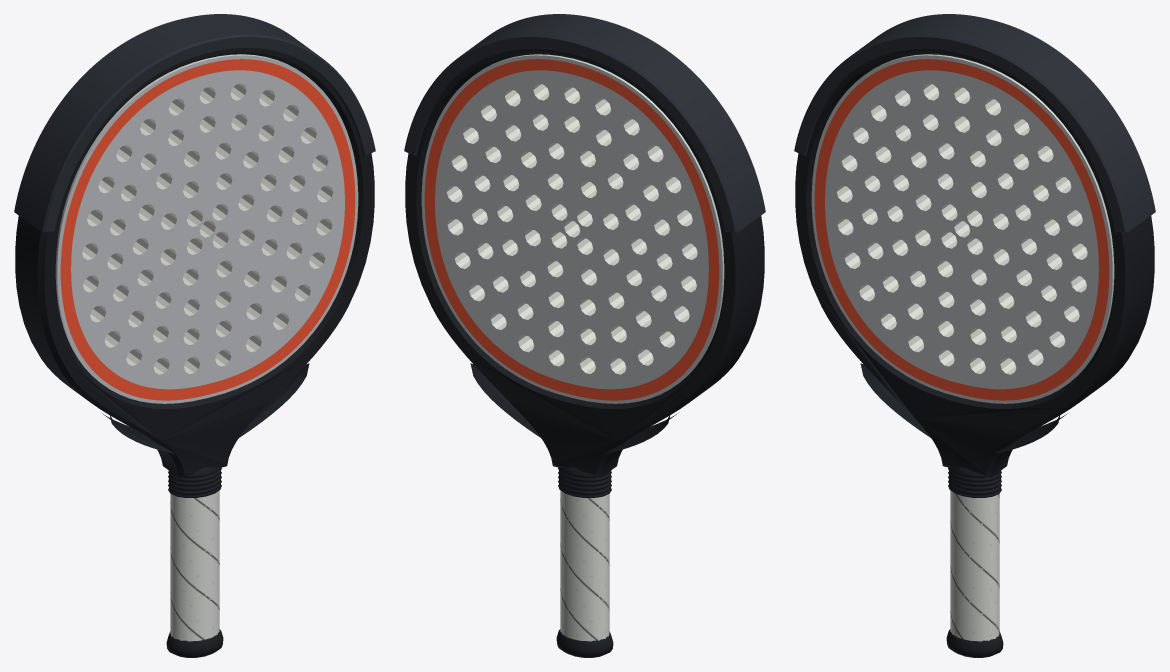
Rendered from nox-ml10-pro-cup-rough-surface.preview.glb.
3 renders of one model, left to right at view 1: azimuth 30°, elevation 25°; view 2: azimuth 150°, elevation 25°; view 3: azimuth 330°, elevation 25°, orthographic.
Parts seen in each view (by area): view 1: part_face, part_frame, part_bumper, part_print, part_grip, part_collar, part_cap; view 2: part_face, part_frame, part_bumper, part_print, part_grip, part_collar, part_cap; view 3: part_face, part_frame, part_bumper, part_print, part_grip, part_collar, part_cap.
Boxes of the visible parts, x1=… form: part_face: x1=55, y1=54, x2=358, y2=403; part_frame: x1=15, y1=48, x2=374, y2=477; part_bumper: x1=14, y1=14, x2=375, y2=232; part_print: x1=60, y1=59, x2=355, y2=400; part_grip: x1=170, y1=490, x2=219, y2=641; part_collar: x1=168, y1=467, x2=221, y2=497; part_cap: x1=166, y1=629, x2=223, y2=657; part_face: x1=421, y1=54, x2=724, y2=403; part_frame: x1=405, y1=48, x2=764, y2=477; part_bumper: x1=404, y1=14, x2=765, y2=232; part_print: x1=424, y1=59, x2=719, y2=400; part_grip: x1=560, y1=490, x2=609, y2=641; part_collar: x1=558, y1=467, x2=611, y2=497; part_cap: x1=556, y1=629, x2=613, y2=657; part_face: x1=811, y1=54, x2=1114, y2=403; part_frame: x1=795, y1=48, x2=1154, y2=477; part_bumper: x1=794, y1=14, x2=1155, y2=232; part_print: x1=814, y1=59, x2=1109, y2=400; part_grip: x1=950, y1=490, x2=999, y2=641; part_collar: x1=948, y1=467, x2=1001, y2=497; part_cap: x1=946, y1=629, x2=1003, y2=657.
Size of the model in its own units: 0.2598 by 0.4566 by 0.0404.
Materials: 9 (1 with a texture image).
